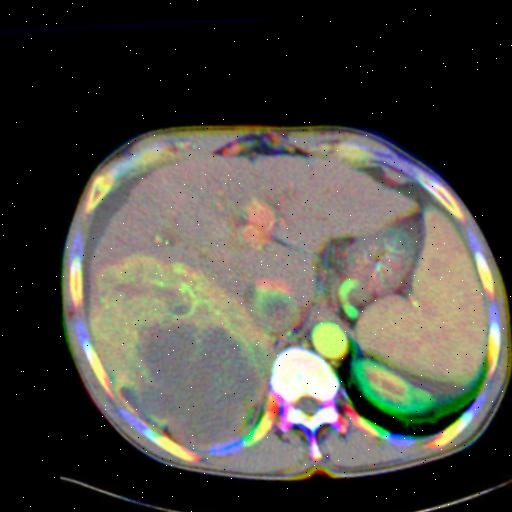Tumor: (133, 319, 257, 440)
